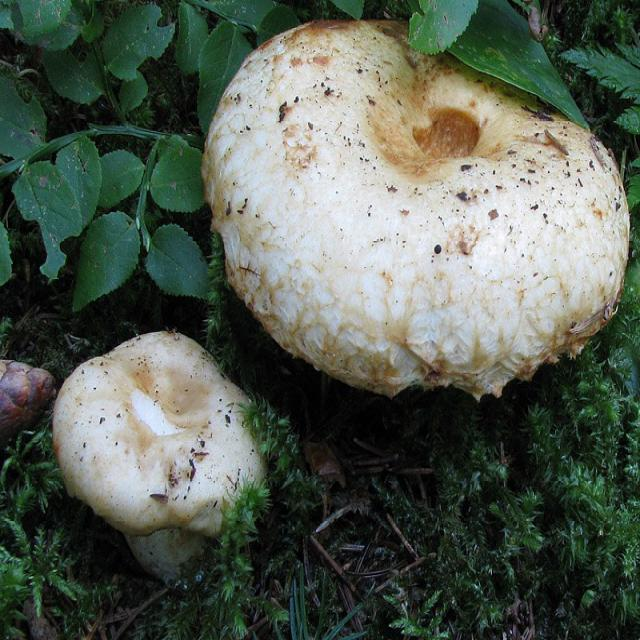Armillaria mellea: (202, 17, 631, 402), (50, 333, 287, 591)
